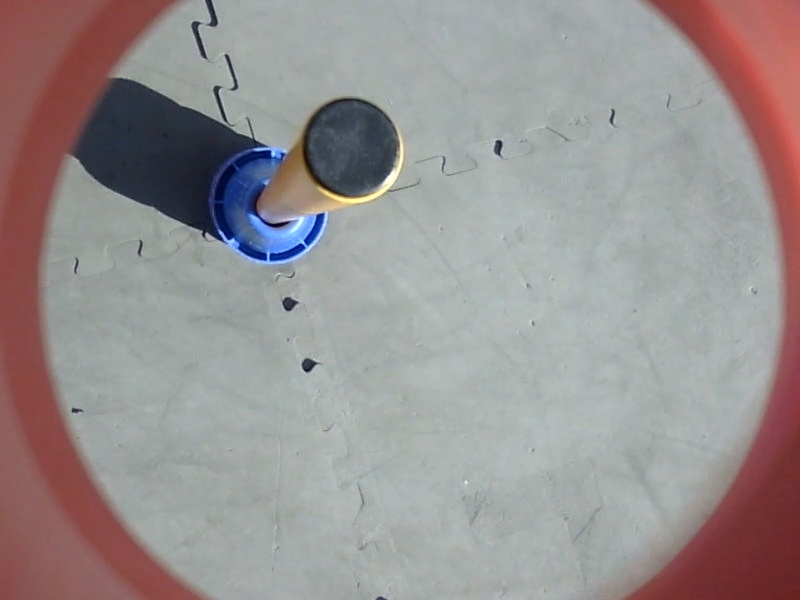tip: (298, 91, 409, 207)
